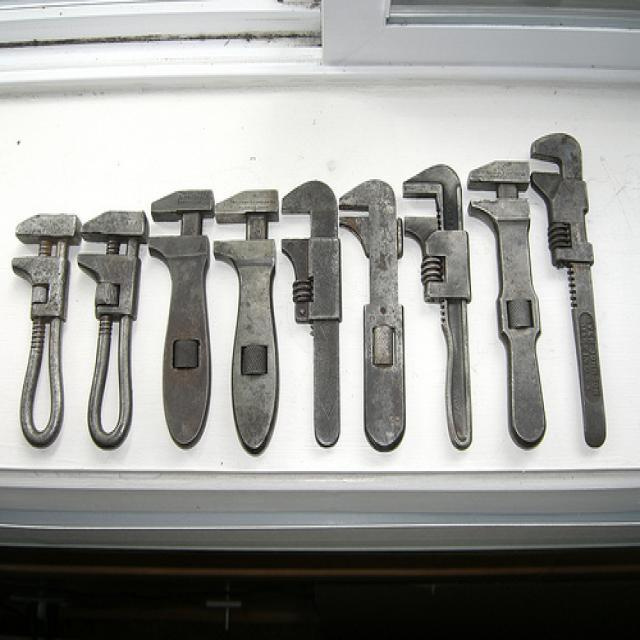wrench: (526, 126, 610, 454), (464, 153, 550, 454), (399, 159, 479, 458), (338, 172, 408, 460), (214, 180, 283, 463), (74, 206, 150, 457), (280, 178, 348, 453), (148, 183, 216, 453), (8, 208, 81, 452)
